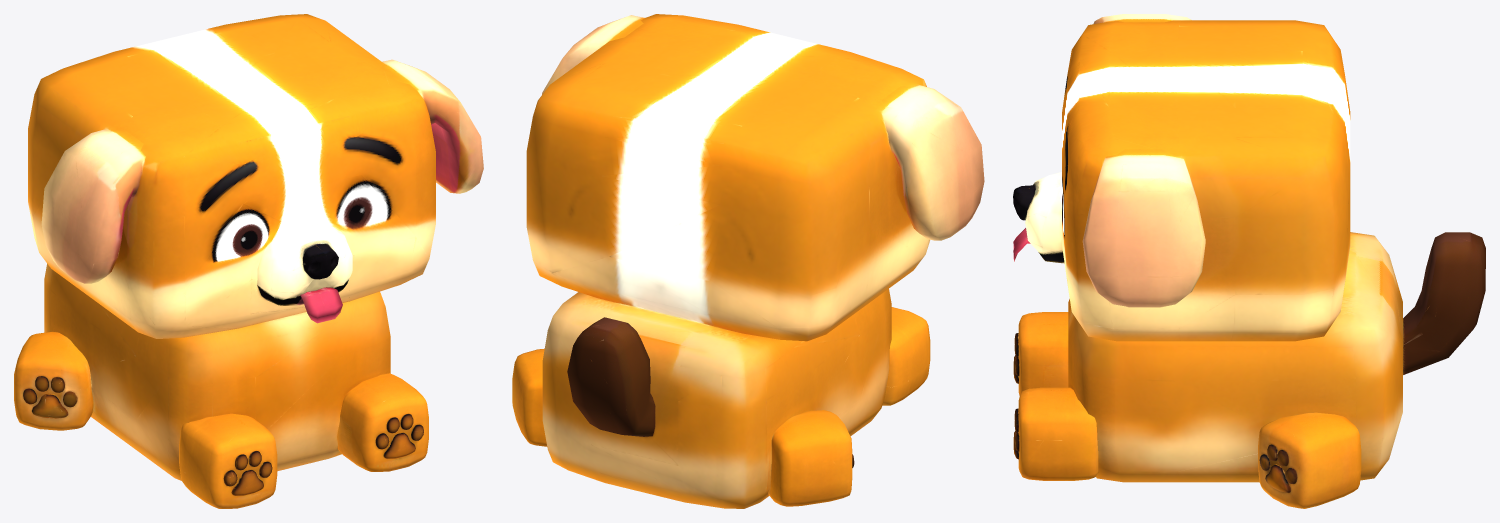
The model's file is Dog_1_2.fbx.
3 views of the same model, side by side, from view 1: azimuth 30°, elevation 25°; view 2: azimuth 150°, elevation 25°; view 3: azimuth 270°, elevation 25° (orthographic).
Parts seen in each view (by area): view 1: Mesh_0; view 2: Mesh_0; view 3: Mesh_0.
Part boxes in pixels (x1,y1,x2,y2): Mesh_0: (14, 14, 483, 508); Mesh_0: (512, 14, 984, 508); Mesh_0: (1013, 14, 1485, 508).
Size of the model in its own units: 197 by 169 by 200.
1 material, 1 textured.
